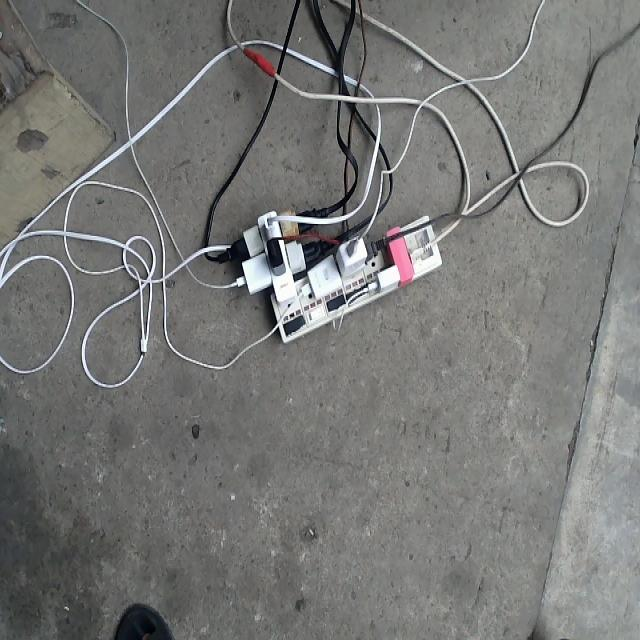-: (212, 207, 441, 341)
